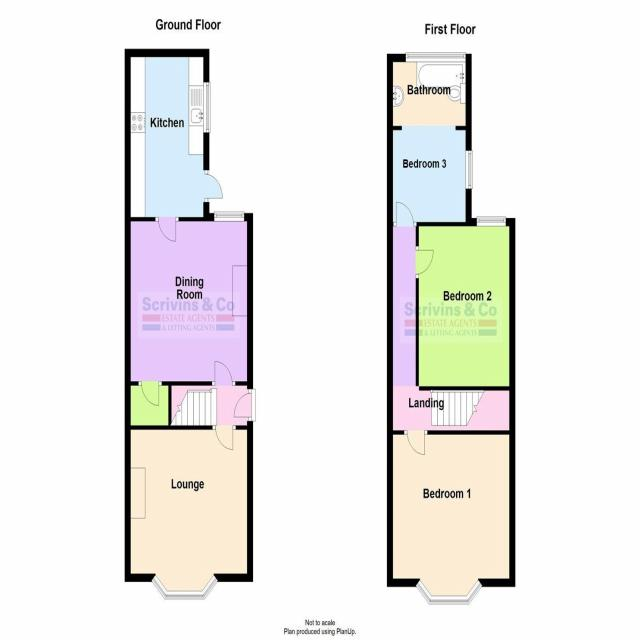DOOR: (403, 430, 428, 461), (233, 389, 255, 421), (204, 169, 224, 203), (393, 199, 417, 227), (415, 246, 435, 279), (155, 217, 179, 244), (212, 425, 236, 451), (212, 360, 235, 386)
ROOM: (124, 420, 254, 604), (387, 430, 516, 604), (415, 217, 516, 391)
WINDOW: (148, 573, 221, 602), (414, 577, 484, 606), (403, 49, 468, 65), (201, 79, 212, 136), (213, 207, 247, 224), (474, 214, 508, 229), (464, 146, 474, 190)
